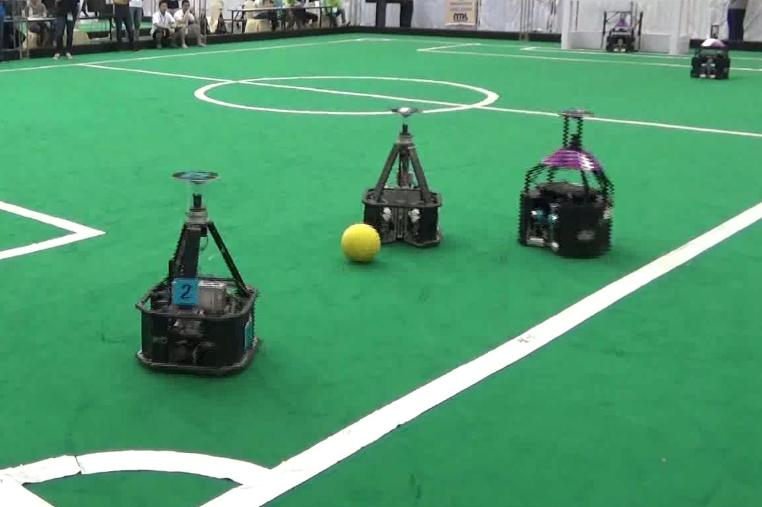robot: (135, 169, 267, 380), (517, 105, 617, 260), (355, 102, 448, 254)
